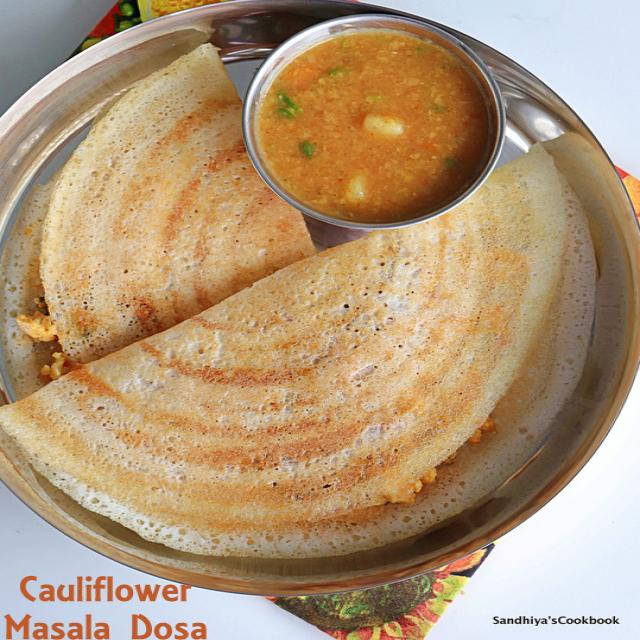Wet Waste: (0, 138, 614, 560), (8, 47, 373, 433)
